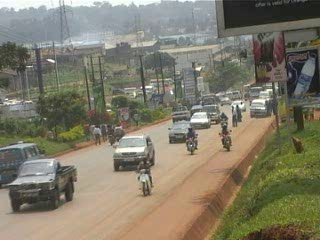Car: (110, 132, 157, 173), (168, 120, 198, 146), (203, 103, 221, 125), (188, 112, 210, 130), (228, 98, 246, 112), (188, 104, 206, 117), (219, 95, 232, 106)
Motorcycle: (133, 156, 157, 196), (180, 126, 200, 154), (218, 126, 236, 152), (103, 122, 116, 148), (112, 123, 125, 142), (217, 110, 230, 129)
